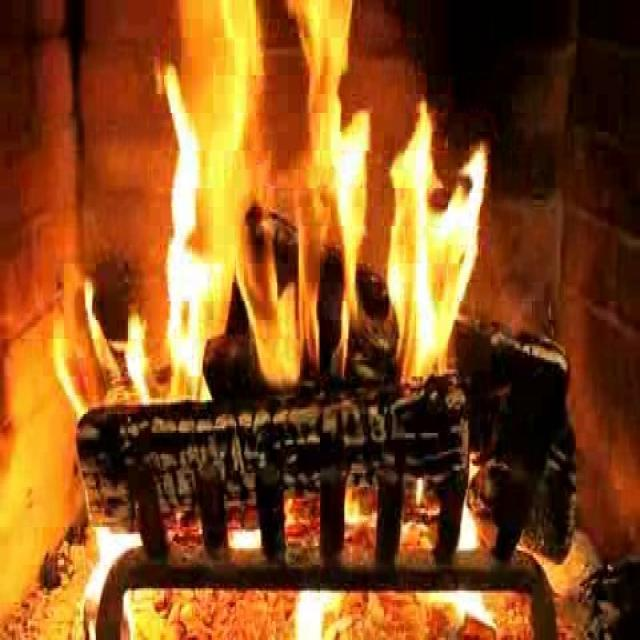Fire: (136, 4, 468, 402)
